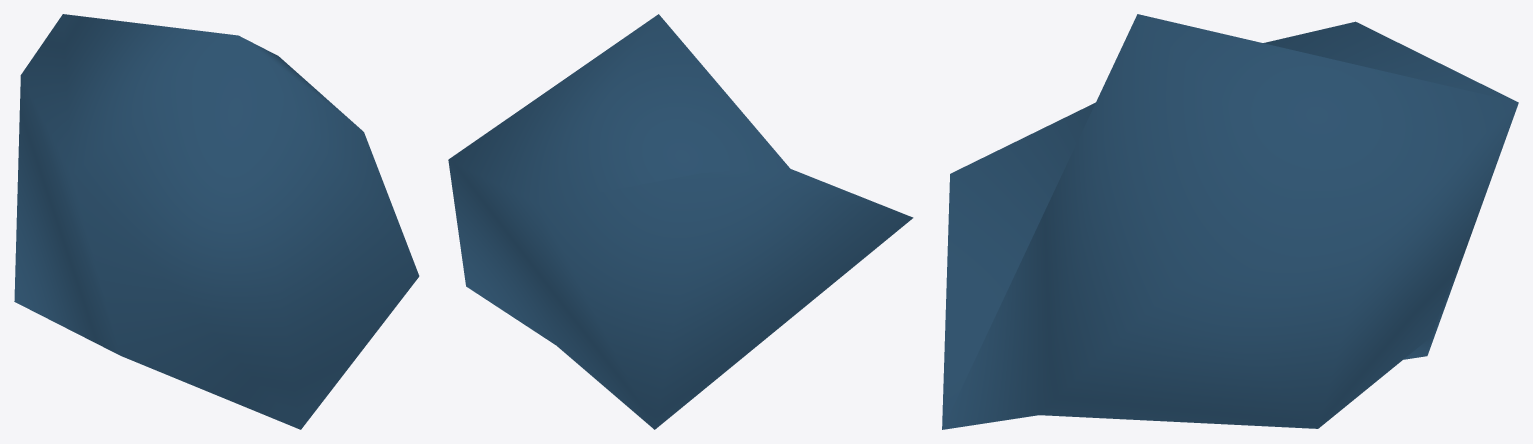
Rendered from BallTrail.glb.
The picture shows the model from 3 angles, left to right: view 1: azimuth 30°, elevation 25°; view 2: azimuth 150°, elevation 25°; view 3: azimuth 270°, elevation 25°; orthographic projection. The views are drawn at different scales.
Visible parts, largest first — view 1: TrailParticle; view 2: TrailParticle; view 3: TrailParticle.
Boxes of the visible parts, <box> form: TrailParticle: <box>14,14,419,429</box>; TrailParticle: <box>448,14,913,429</box>; TrailParticle: <box>942,14,1518,429</box>.
Bounding box in the file's own units: 0.0775 × 0.0743 × 0.0914.
Materials: 1 (1 with a texture image).
